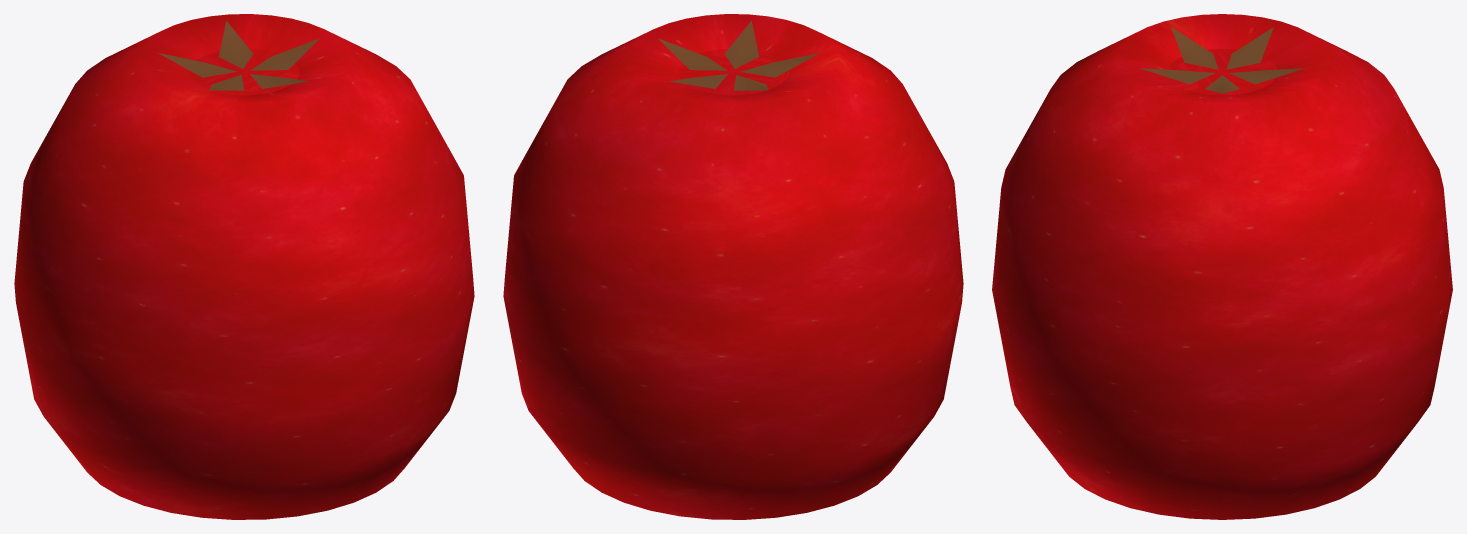
File: redcurrant-Tk5ChaFU.glb
3 renders of one model, left to right at view 1: azimuth 30°, elevation 25°; view 2: azimuth 150°, elevation 25°; view 3: azimuth 270°, elevation 25°, orthographic.
Visible parts, largest first — view 1: FLC_redcurrant; view 2: FLC_redcurrant; view 3: FLC_redcurrant.
Boxes of the visible parts, x1,y1,x2,y2 form: FLC_redcurrant: (14,14,474,519); FLC_redcurrant: (503,14,963,519); FLC_redcurrant: (992,14,1452,519).
Bounding box in the file's own units: 0.2 × 0.201 × 0.2.
Materials: 2 (1 with a texture image).
